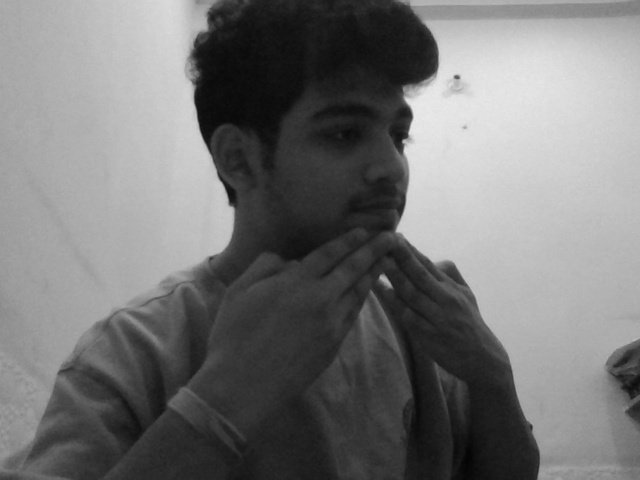Thanks: (197, 195, 615, 423)
